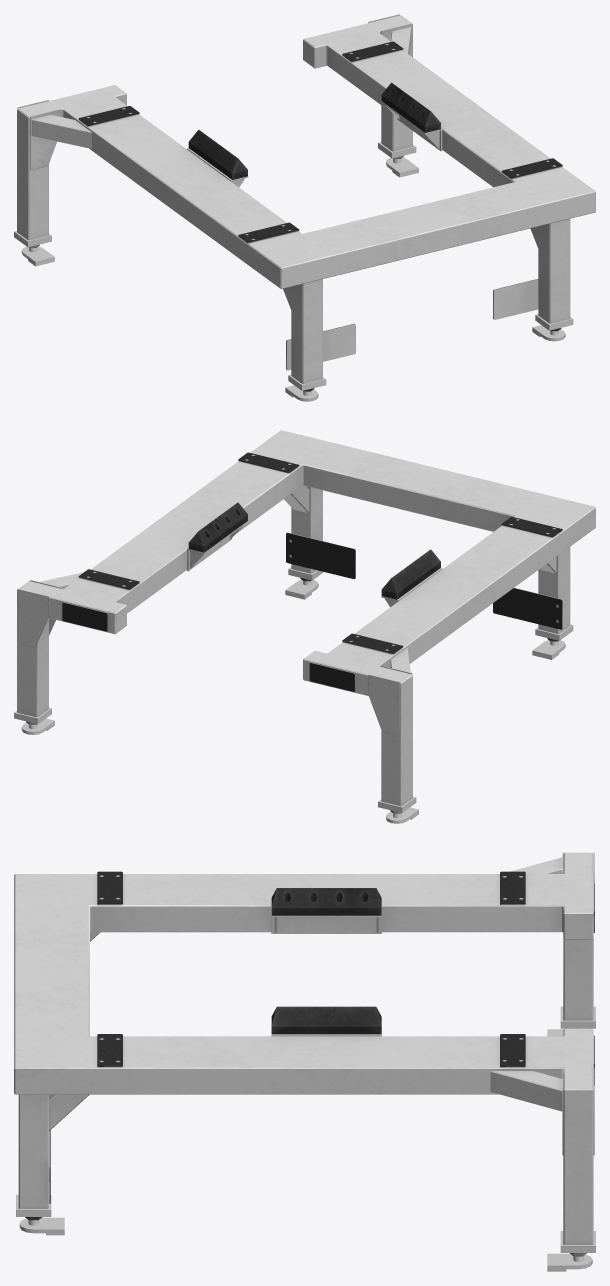
The model's file is Otto600_Stand.fbx.
3 views of the same model, one above another, from view 1: azimuth 30°, elevation 25°; view 2: azimuth 150°, elevation 25°; view 3: azimuth 270°, elevation 25° (orthographic). The views are drawn at different scales.
Parts seen in each view (by area): view 1: Otto600_Stand; view 2: Otto600_Stand; view 3: Otto600_Stand.
Boxes of the visible parts, x1,y1,x2,y2 form: Otto600_Stand: (14,14,595,401); Otto600_Stand: (14,430,595,823); Otto600_Stand: (14,852,595,1271).
Size of the model in its own units: 132 by 128 by 51.41.
Materials: 1 (1 with a texture image).
